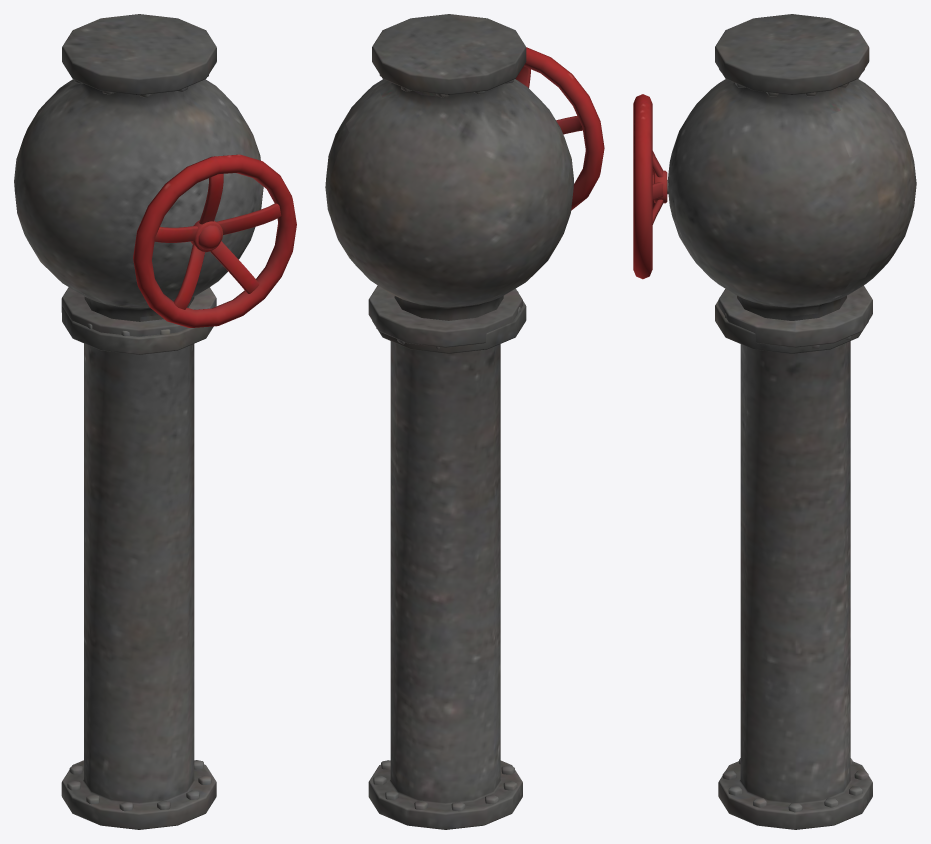
Rendered from tuberia.fbx.
3 views of the same model, side by side, from view 1: azimuth 30°, elevation 25°; view 2: azimuth 150°, elevation 25°; view 3: azimuth 270°, elevation 25° (orthographic).
Parts seen in each view (by area): view 1: Object003, Modular_Pipes, Object015; view 2: Object003, Modular_Pipes, Object015; view 3: Object003, Modular_Pipes, Object015.
Boxes of the visible parts, x1,y1,x2,y2 form: Object003: [61, 287, 216, 829]; Modular_Pipes: [14, 14, 263, 354]; Object015: [133, 154, 296, 327]; Object003: [368, 285, 522, 829]; Modular_Pipes: [325, 14, 573, 353]; Object015: [515, 47, 604, 210]; Object003: [718, 285, 872, 829]; Modular_Pipes: [668, 14, 916, 353]; Object015: [633, 94, 668, 279].
Bounding box in the file's own units: 7.17 × 23.84 × 8.15.
1 material, 1 textured.
